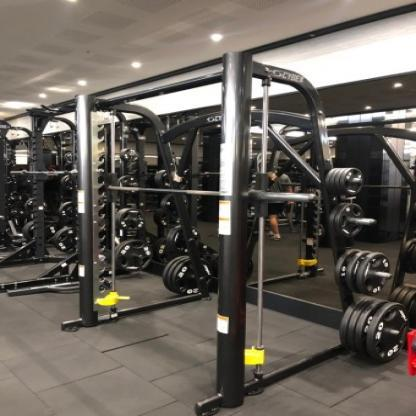smith machine: (76, 52, 369, 416), (28, 98, 214, 333)
